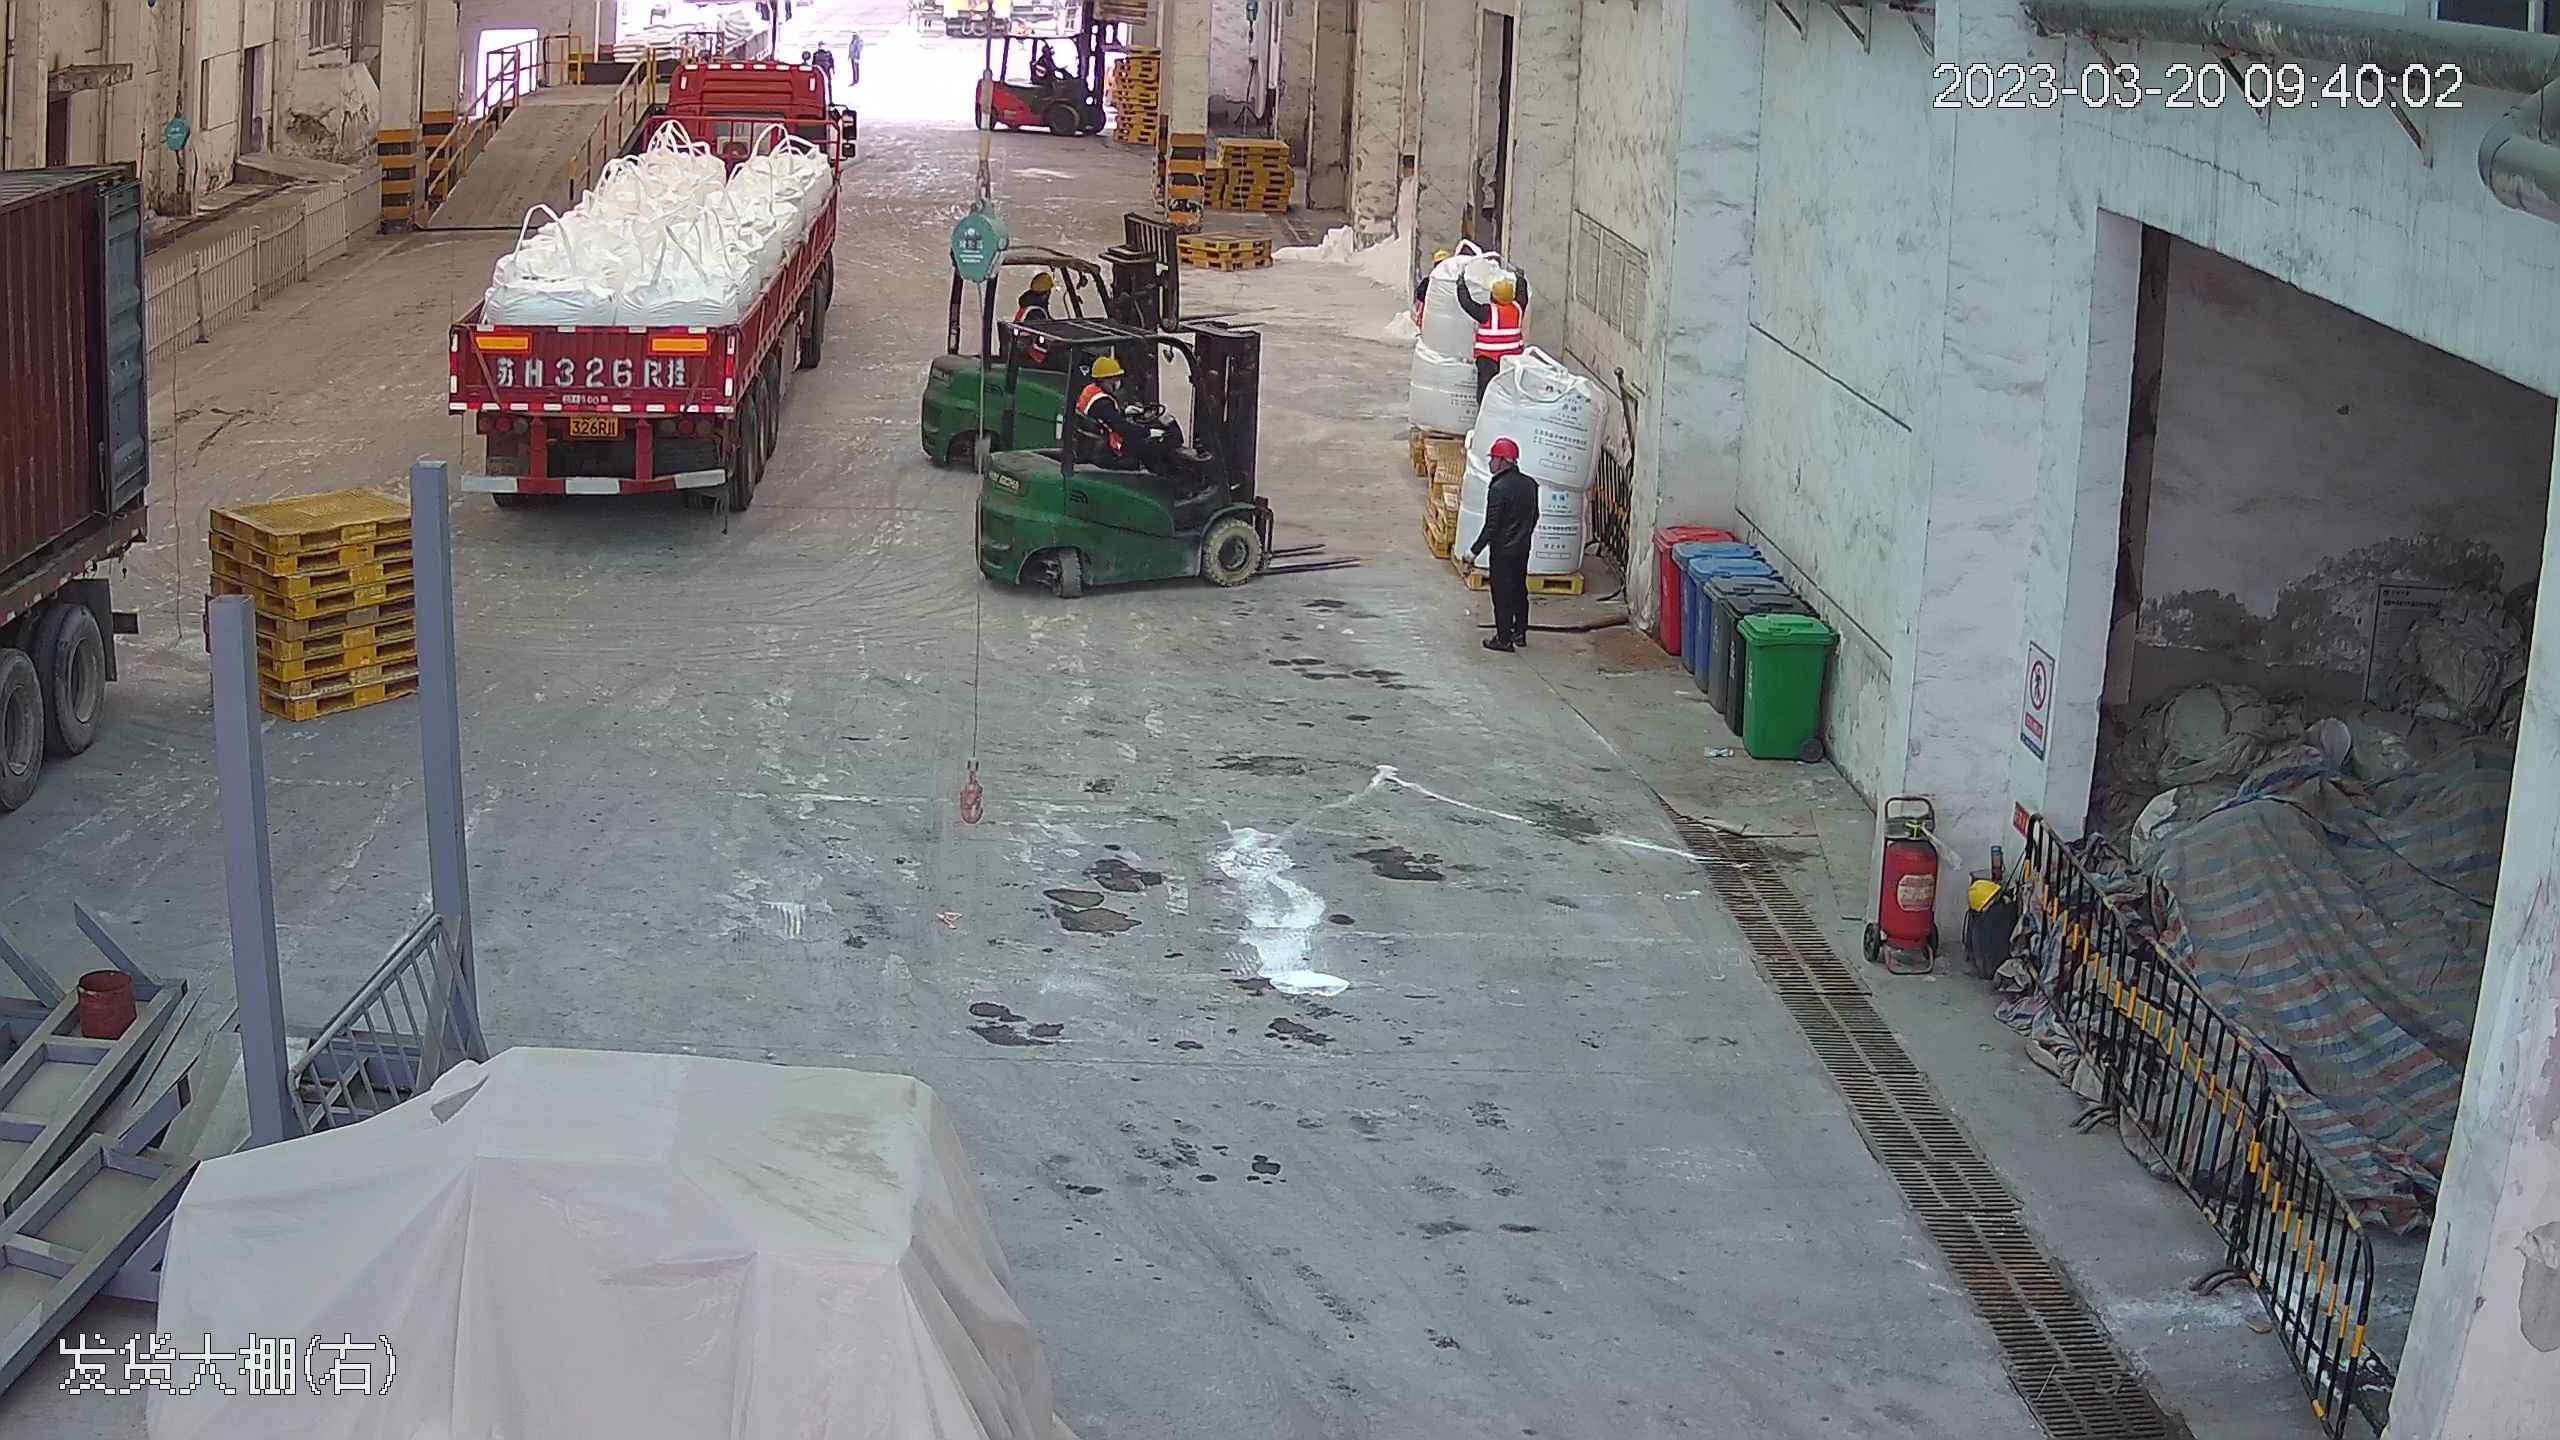head: (1481, 433, 1540, 500), (1071, 351, 1128, 417), (1017, 267, 1067, 323), (1471, 273, 1520, 326)
helmet: (1490, 432, 1525, 458), (1090, 352, 1124, 375), (1029, 269, 1057, 290), (1484, 272, 1509, 290)
people: (1467, 424, 1543, 658), (1463, 270, 1520, 436), (848, 30, 860, 88)
truck: (437, 24, 855, 519), (1, 20, 174, 879)
